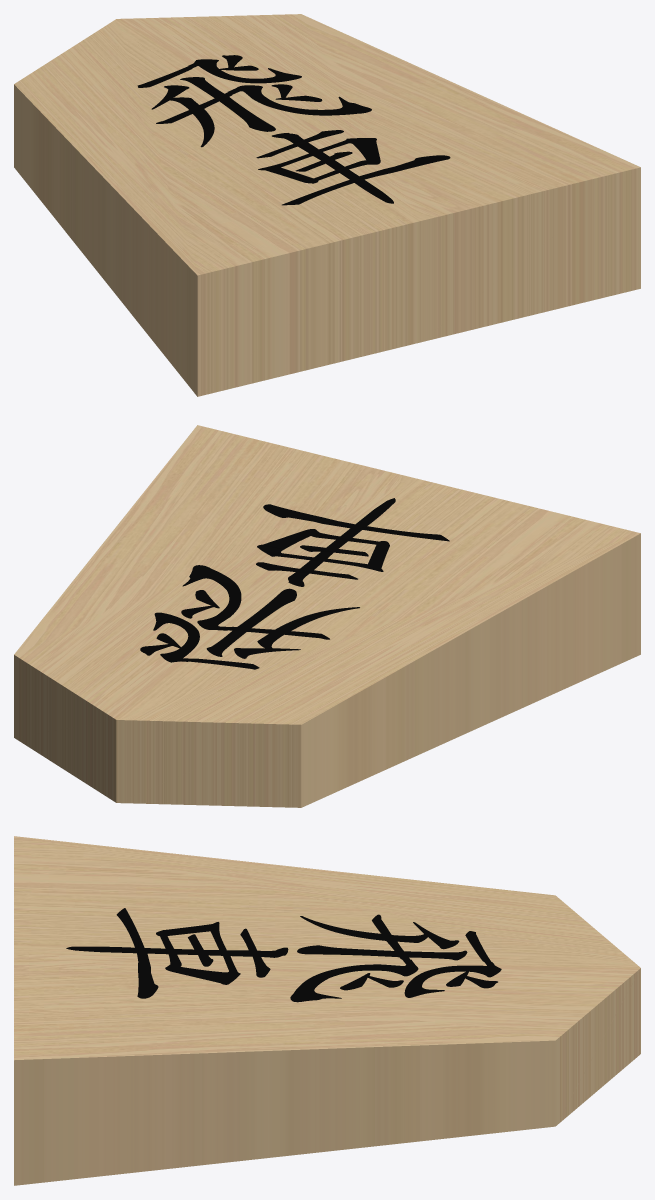
The model's file is hisya.fbx.
3 renders of one model, top to bottom at view 1: azimuth 30°, elevation 25°; view 2: azimuth 150°, elevation 25°; view 3: azimuth 270°, elevation 25°, orthographic. The views are drawn at different scales.
Parts seen in each view (by area): view 1: hisya.001; view 2: hisya.001; view 3: hisya.001.
Boxes of the visible parts, x1,y1,x2,y2 form: hisya.001: [14, 14, 640, 396]; hisya.001: [14, 425, 640, 807]; hisya.001: [14, 836, 640, 1185].
Size of the model in its own units: 437 by 114 by 517.
